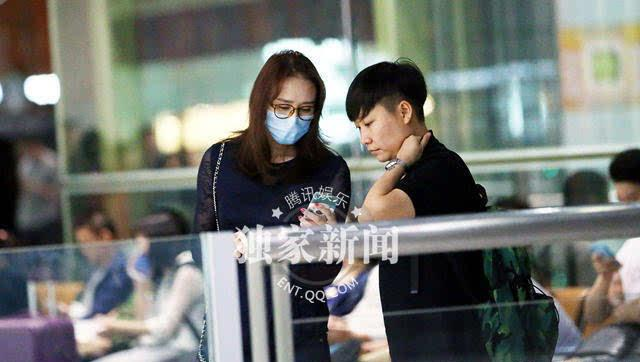NONE: (358, 103, 410, 164)
OK: (269, 93, 320, 144)
